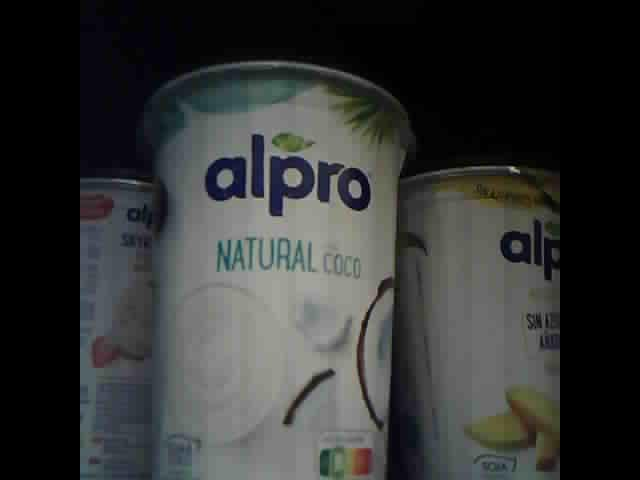alpro: (137, 54, 413, 480), (399, 164, 560, 479), (81, 164, 158, 476)
